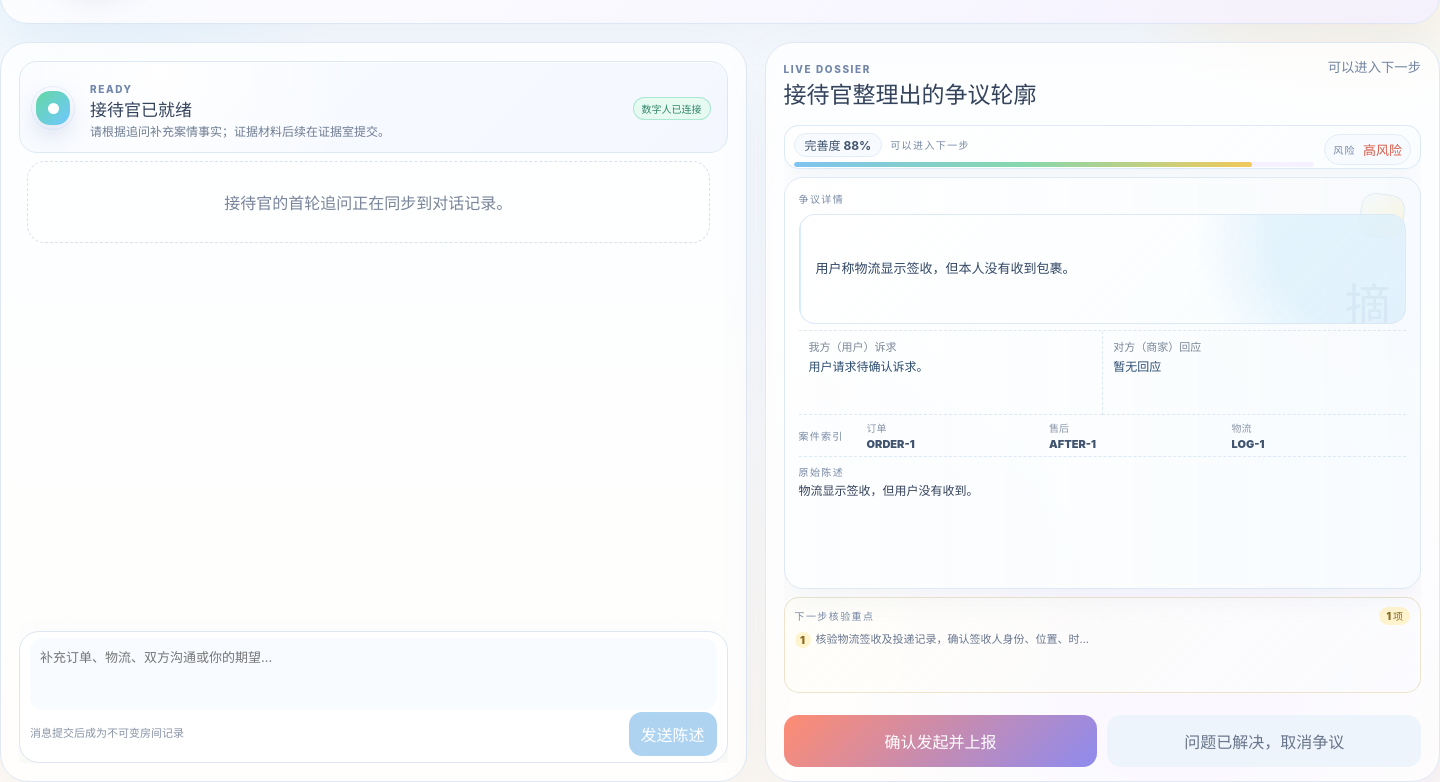
it: IntakeRoomView › opens the evidence room only after the server confirms admission
(page scrolled)
Click the button "确认发起并上报" at {"x": 940, "y": 741}, box x1=784 y1=715 x2=1097 y2=767
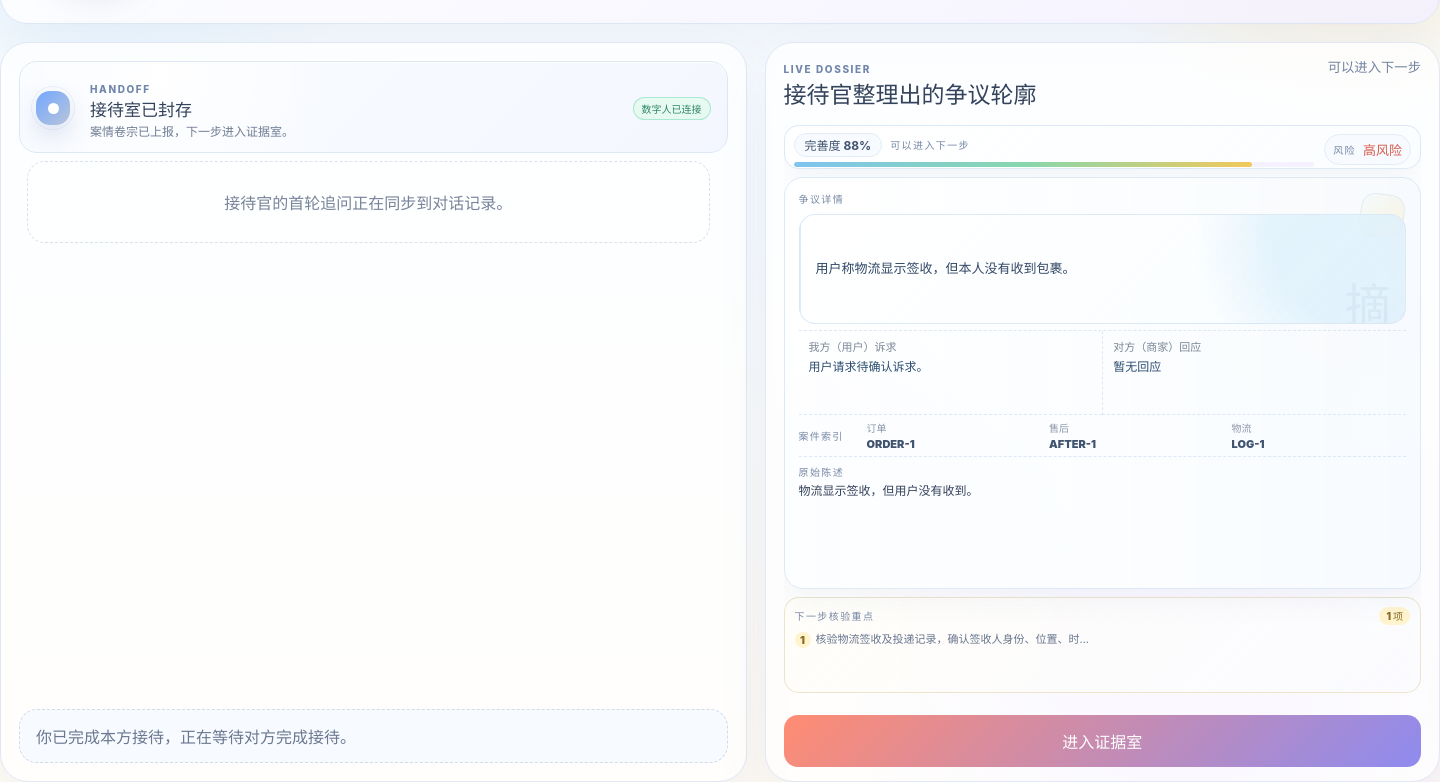
Expected: the text "已上报" is shown, x1=90 y1=124 x2=294 y2=138
